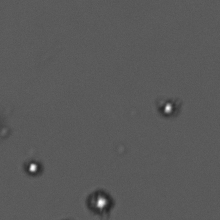Living Cell: (86, 188, 115, 215), (156, 98, 178, 117), (23, 158, 41, 176)
